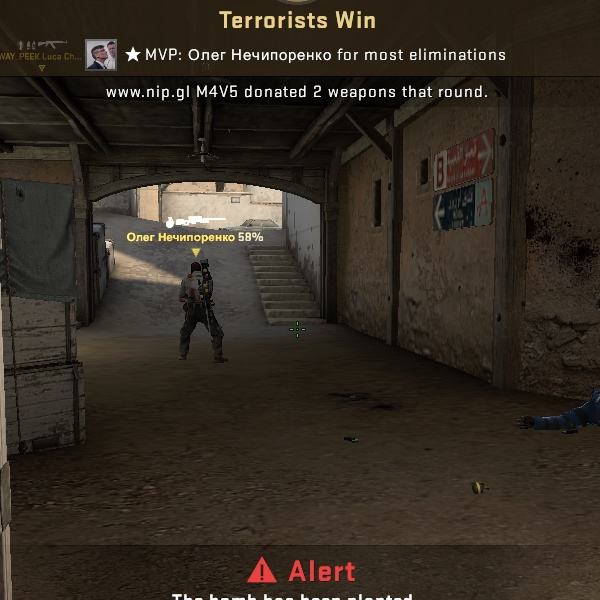t_body: (176, 262, 223, 360)
t_head: (190, 261, 201, 278)
